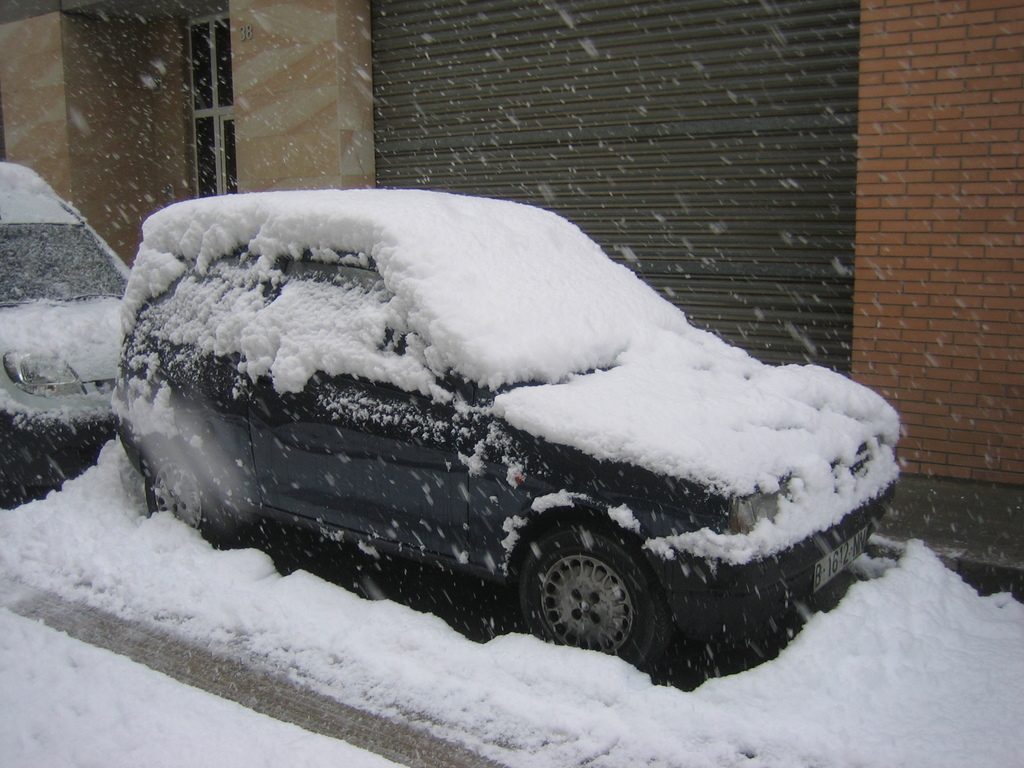Car: (73, 165, 881, 666), (0, 156, 130, 504)
